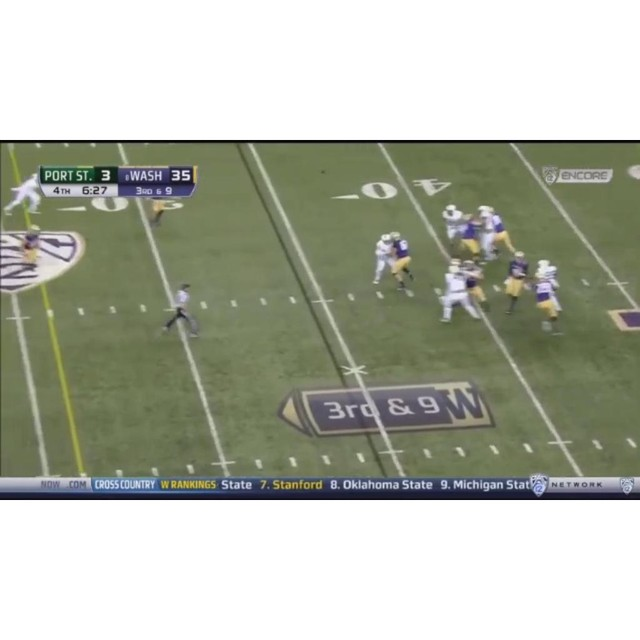american-football-player: (439, 262, 480, 325), (496, 250, 531, 315), (531, 270, 563, 337), (4, 171, 43, 216), (484, 206, 517, 257), (390, 231, 415, 290), (372, 232, 396, 286), (457, 216, 483, 261), (442, 203, 466, 248), (21, 226, 42, 272), (148, 198, 169, 229)
referee: (162, 282, 199, 337)
